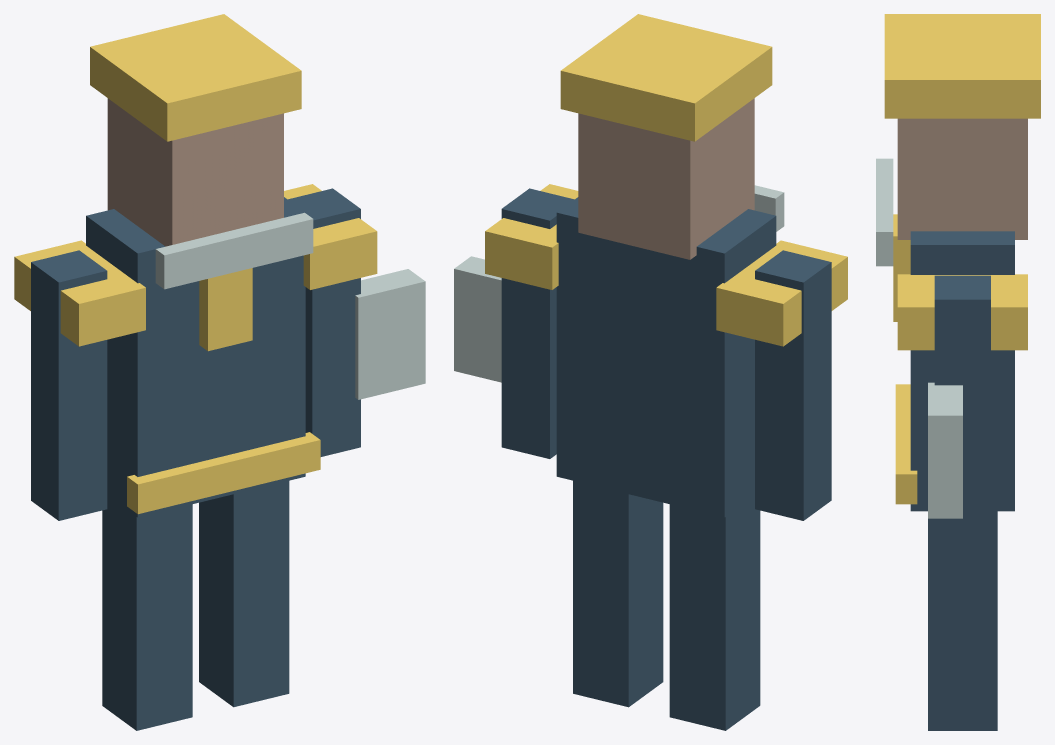
Rendered from 12_brant_ashvein_tactician_of_turret.glb.
3 renders of one model, left to right at view 1: azimuth 30°, elevation 25°; view 2: azimuth 150°, elevation 25°; view 3: azimuth 270°, elevation 25°, orthographic.
Parts seen in each view (by area): view 1: Brant Ashvein, Tactician of Turret; view 2: Brant Ashvein, Tactician of Turret; view 3: Brant Ashvein, Tactician of Turret.
Boxes of the visible parts, box(x1,y1,x2,y2) form: Brant Ashvein, Tactician of Turret: box(14, 14, 425, 730); Brant Ashvein, Tactician of Turret: box(454, 14, 847, 730); Brant Ashvein, Tactician of Turret: box(876, 14, 1040, 730).
Size of the model in its own units: 0.9502 by 1.6 by 0.3703.
